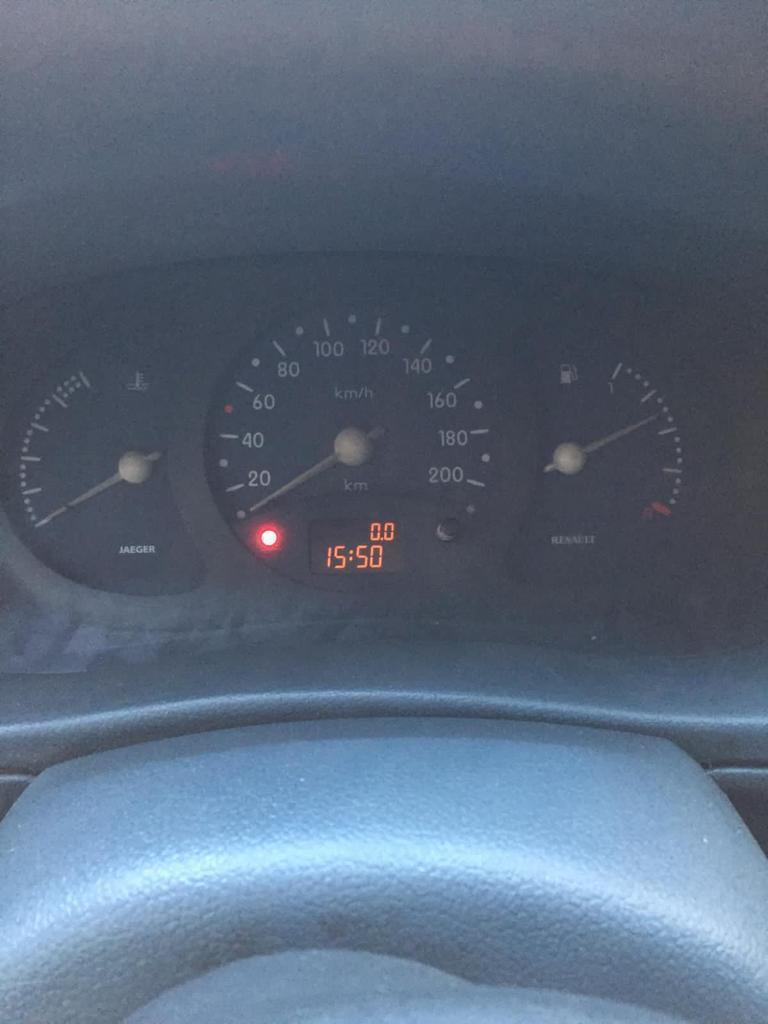,: (379, 536, 383, 541)
0: (368, 544, 383, 568), (368, 521, 380, 540), (383, 521, 394, 541)
1: (325, 546, 332, 568)
5: (355, 543, 368, 568), (333, 544, 346, 569)
X: (347, 548, 354, 560)
odometer: (301, 513, 411, 580)
